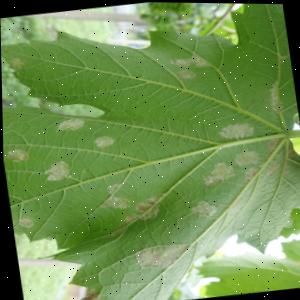Folha: (0, 0, 300, 300)
Fungo: (132, 240, 192, 272), (119, 191, 168, 223), (200, 159, 237, 186), (121, 202, 161, 224), (216, 119, 256, 140), (169, 51, 211, 70), (266, 77, 287, 115), (42, 158, 72, 182), (132, 192, 167, 212), (279, 140, 298, 174), (133, 199, 161, 220), (53, 115, 87, 132), (188, 198, 218, 217), (100, 193, 131, 211), (233, 147, 261, 166), (5, 146, 31, 163), (93, 133, 117, 148), (175, 66, 198, 81), (78, 286, 101, 300), (262, 160, 282, 176), (242, 165, 260, 181), (7, 57, 26, 72), (122, 211, 143, 223), (264, 137, 283, 149), (17, 216, 35, 228), (106, 181, 122, 193)
